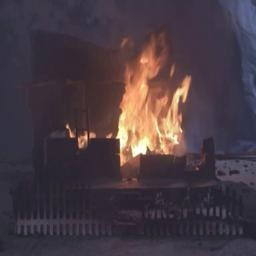fire: (102, 33, 206, 163)
